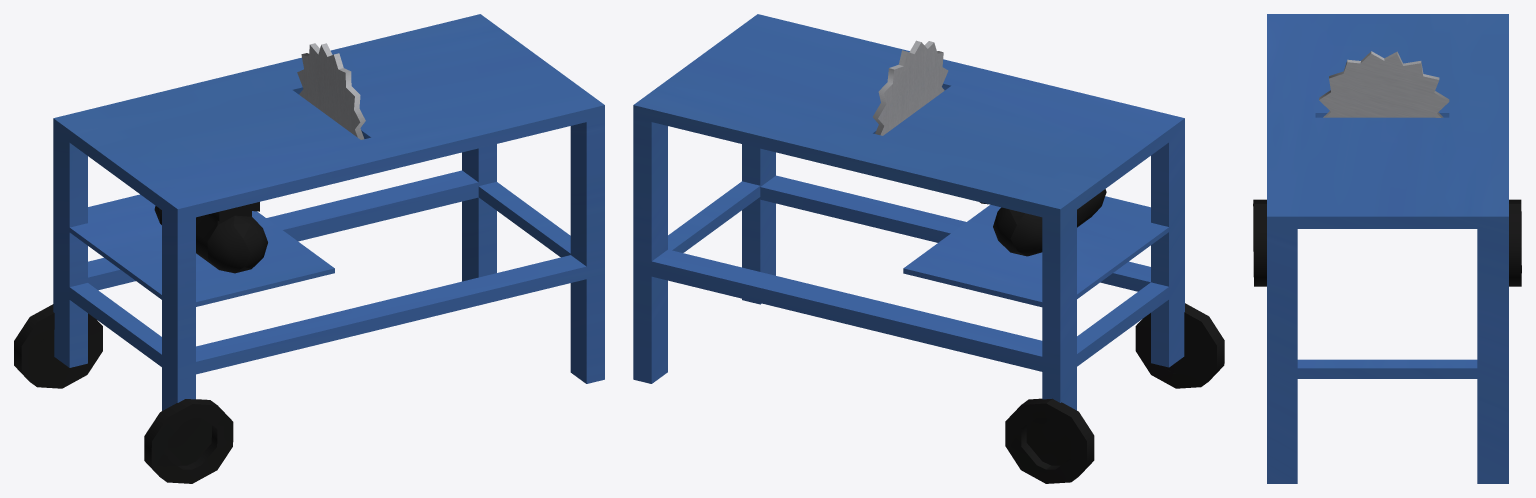
Rendered from kesici 1 yeni.fbx.
3 views of the same model, side by side, from view 1: azimuth 30°, elevation 25°; view 2: azimuth 150°, elevation 25°; view 3: azimuth 270°, elevation 25° (orthographic). The views are drawn at different scales.
Parts seen in each view (by area): view 1: Cube.003; view 2: Cube.003; view 3: Cube.003.
Boxes of the visible parts, bbox=[...] form: Cube.003: bbox=[14, 14, 604, 483]; Cube.003: bbox=[633, 14, 1224, 483]; Cube.003: bbox=[1253, 14, 1521, 483].
Size of the model in its own units: 121 by 85.52 by 63.14.
Materials: 1 (1 with a texture image).
